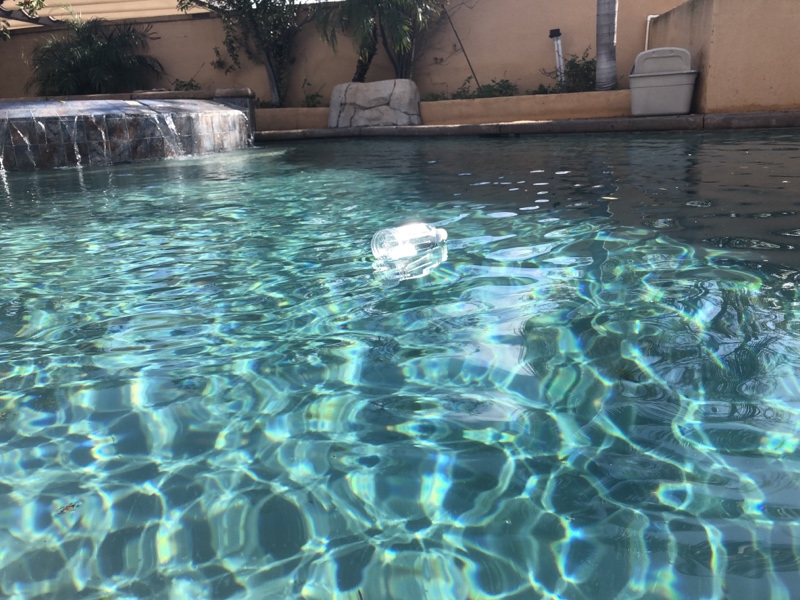Plastic Bottle: (365, 224, 457, 266)
